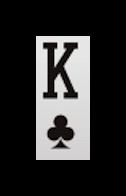KC: (38, 39, 83, 152)
